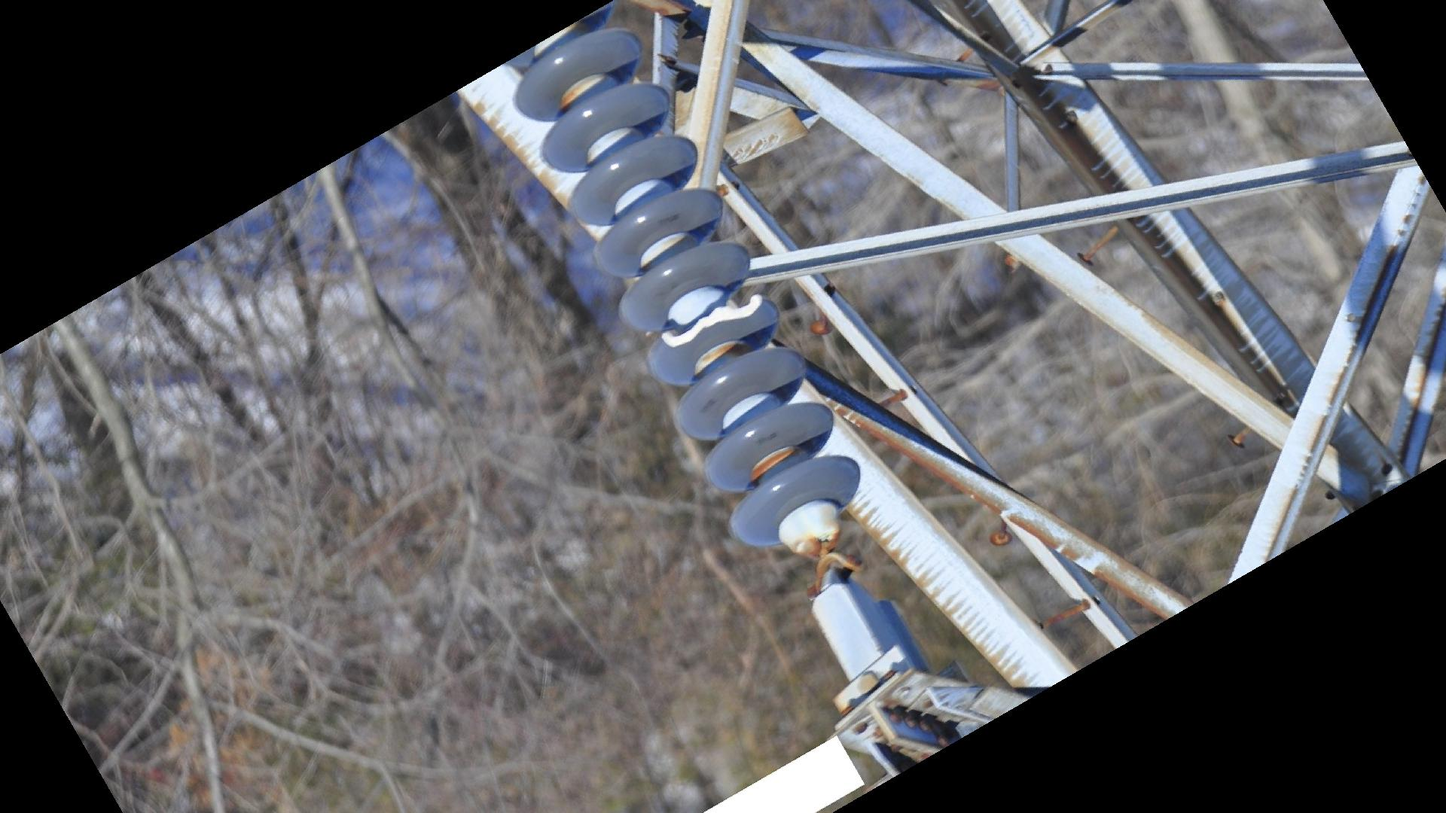insulator: (508, 23, 868, 555)
insulator_breakage: (657, 288, 771, 352)
